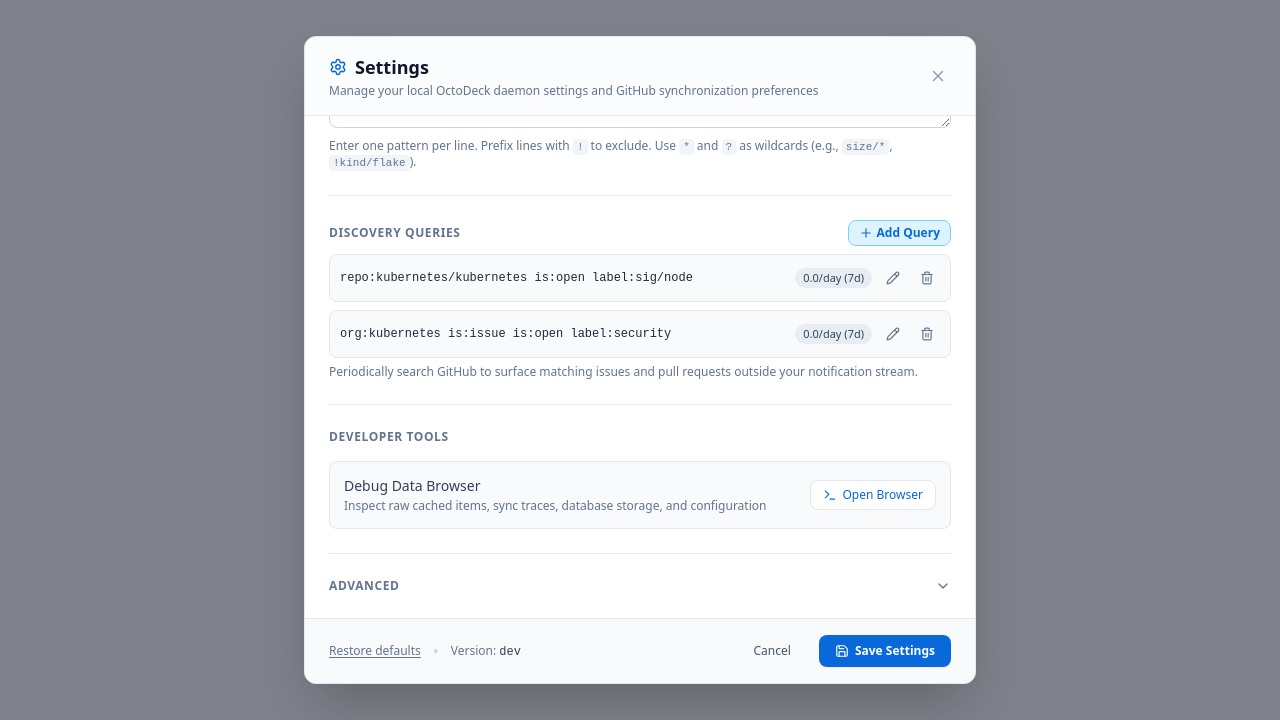
Test case: Settings Component › renders Advanced section collapsed by default and toggles open/close on click
(page scrolled)
Expected: the field labelled "Polling Interval" is not shown
Click the button "Advanced". click: (364, 586)
box: top-left (329, 578), bottom-right (951, 594)
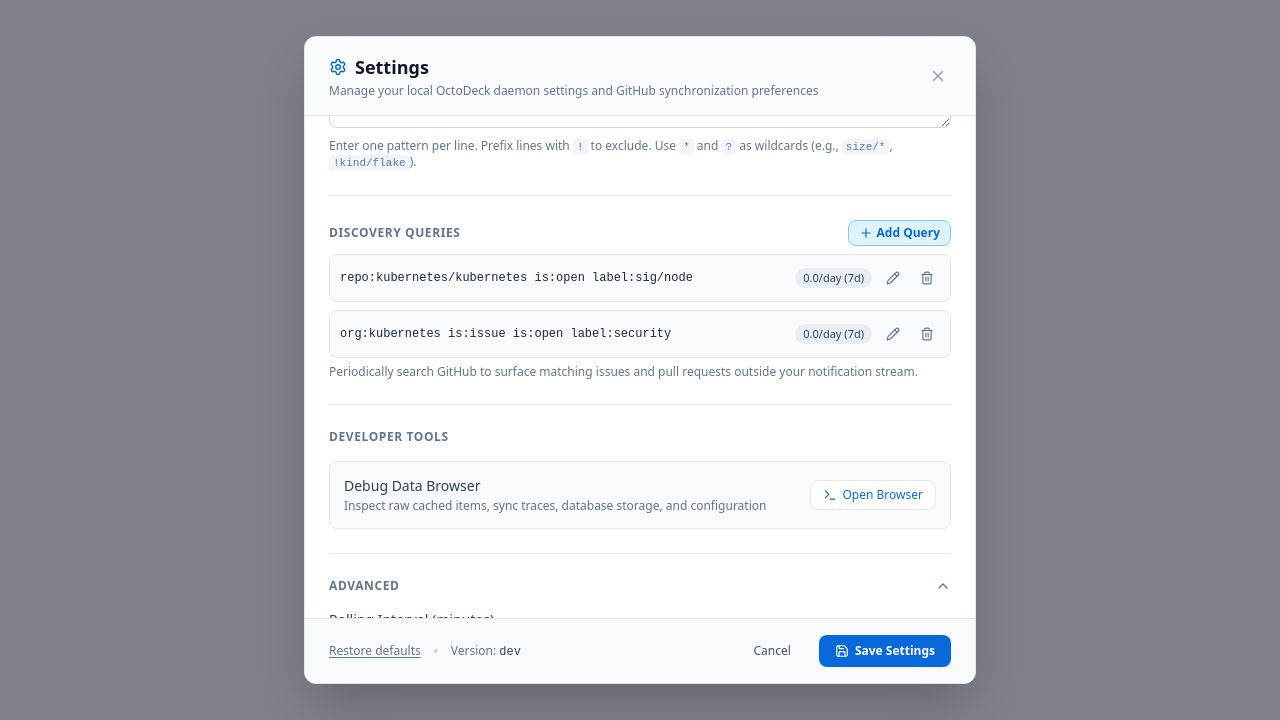
Expected: the button "Advanced" is expanded
# Collapse again
Click the button "Advanced". click: (364, 586)
box: top-left (329, 578), bottom-right (951, 594)
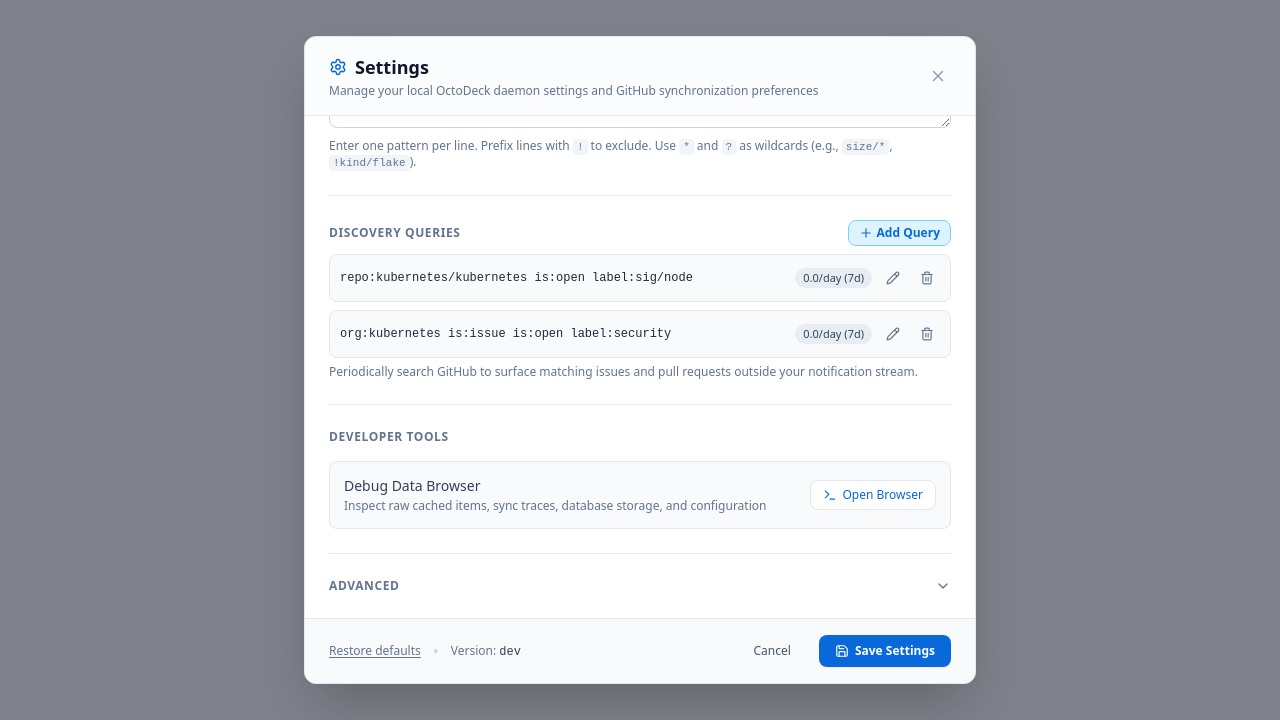
Expected: the button "Advanced" is collapsed, top-left (329, 578), bottom-right (951, 594)
Expected: the label labelled "Polling Interval" is gone
